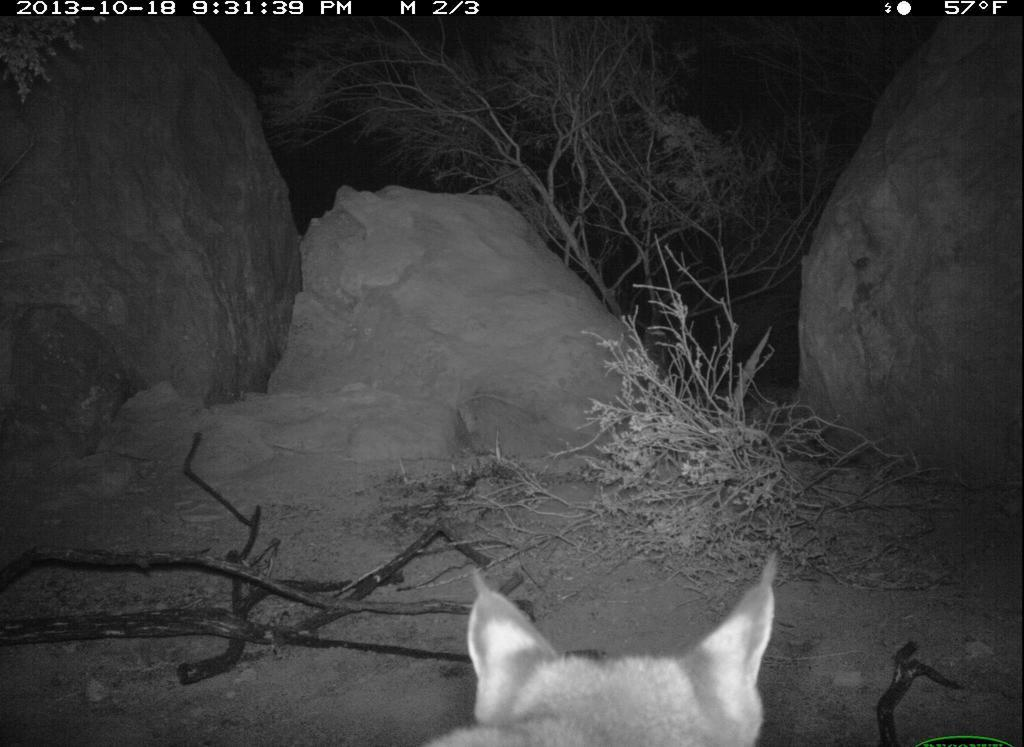bobcat: (420, 546, 818, 747)
